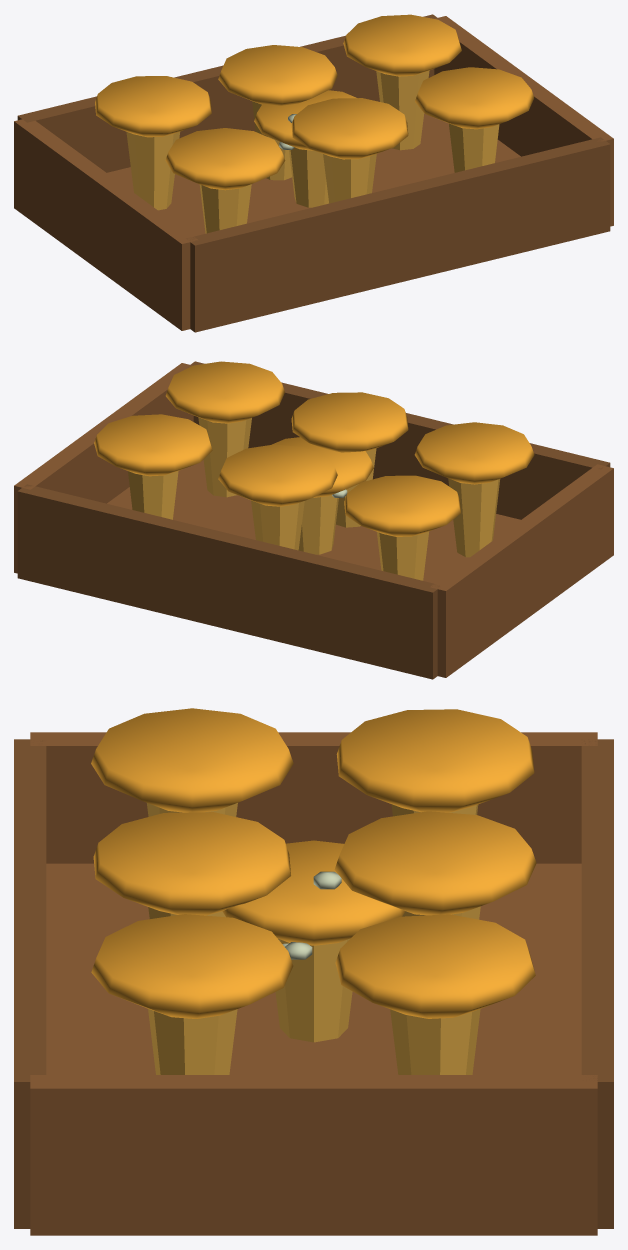
Rendered from Mush_Chanterelle.fbx.
3 renders of one model, top to bottom at view 1: azimuth 30°, elevation 25°; view 2: azimuth 150°, elevation 25°; view 3: azimuth 270°, elevation 25°, orthographic. The views are drawn at different scales.
Parts seen in each view (by area): view 1: Mush_Chanterelle__Stack, Mush_Chanterelle; view 2: Mush_Chanterelle__Stack, Mush_Chanterelle; view 3: Mush_Chanterelle__Stack, Mush_Chanterelle, Mush_Chanterelle__Rotten.
Boxes of the visible parts, left/top/right/bottom form: Mush_Chanterelle__Stack: left=14, top=14, right=613, bottom=332; Mush_Chanterelle: left=254, top=90, right=357, bottom=207; Mush_Chanterelle__Stack: left=14, top=361, right=613, bottom=679; Mush_Chanterelle: left=271, top=437, right=373, bottom=554; Mush_Chanterelle__Stack: left=14, top=708, right=613, bottom=1235; Mush_Chanterelle: left=222, top=840, right=405, bottom=1042; Mush_Chanterelle__Rotten: left=282, top=871, right=341, bottom=959.
Size of the model in its own units: 0.208 by 0.056 by 0.148.
